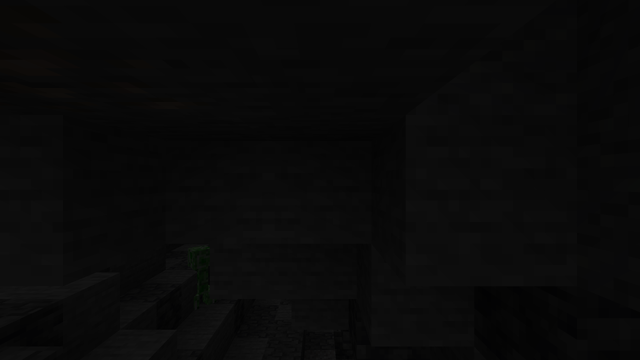creepers: (184, 244, 214, 308)
